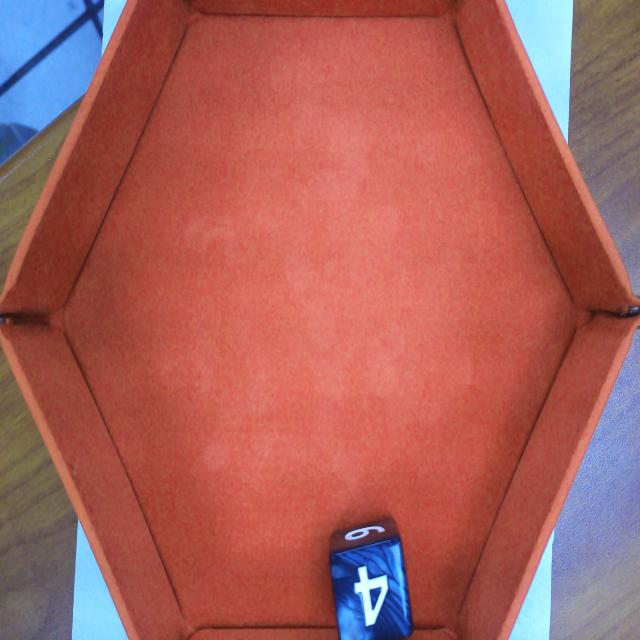dice: (328, 535, 416, 639)
